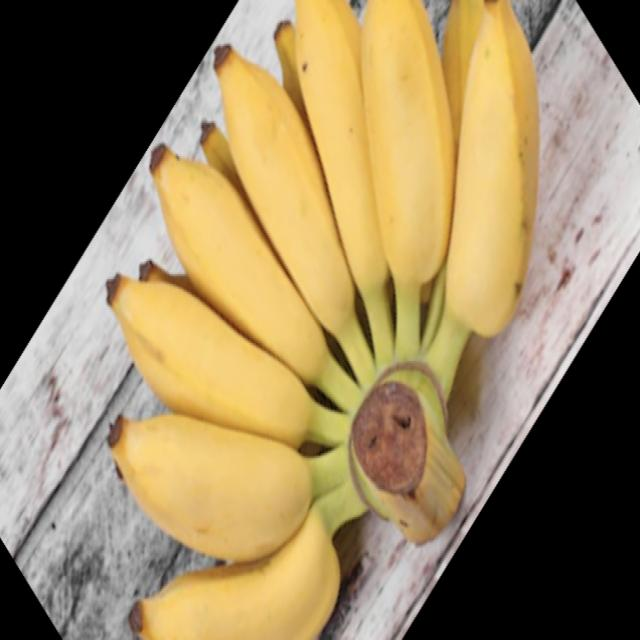god quality banana: (107, 0, 540, 639)
